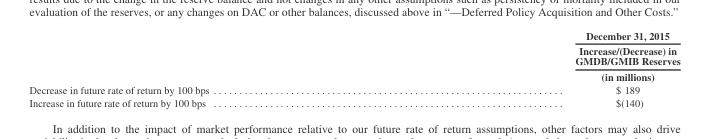table: (28, 28, 679, 108)
table column: (28, 28, 391, 108), (391, 28, 679, 108)
table column header: (28, 28, 679, 82)
table row: (28, 28, 679, 82), (28, 82, 679, 95), (28, 95, 679, 108)
